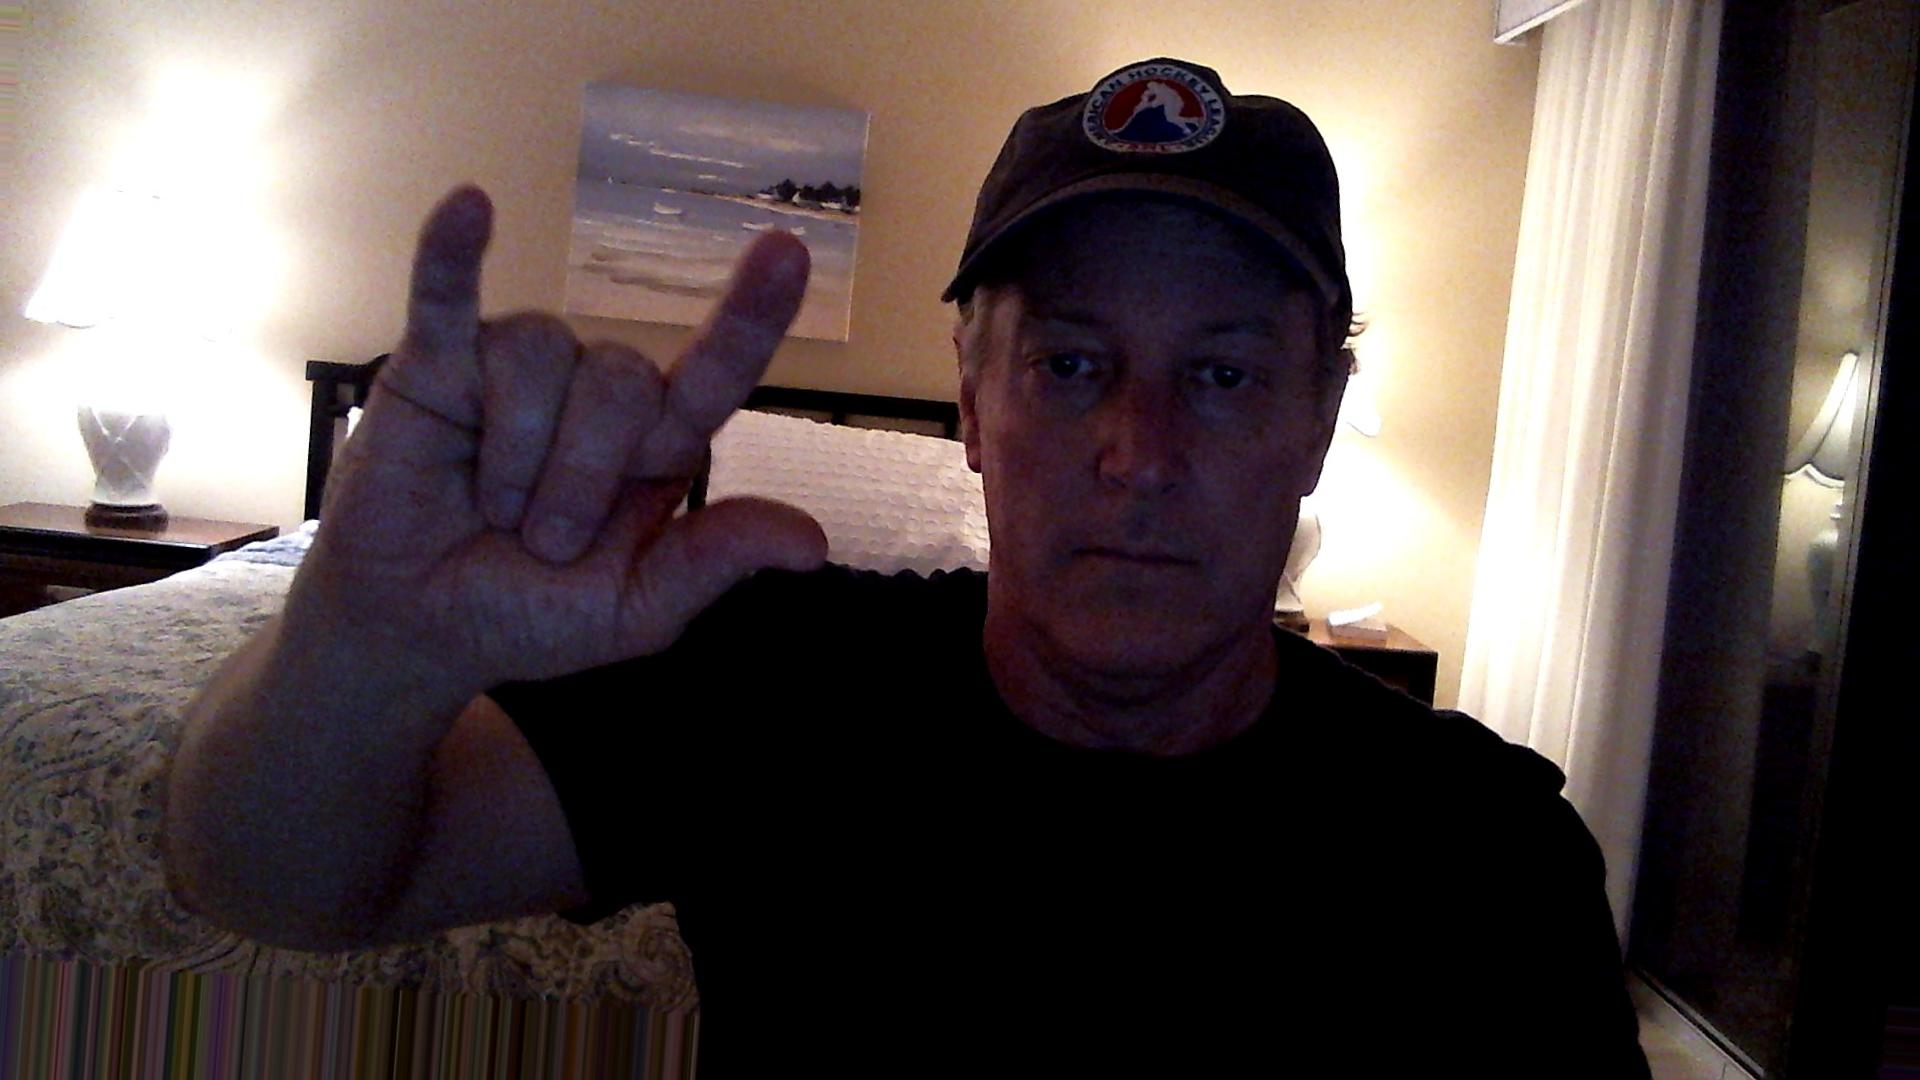I Love You: (311, 164, 847, 696)
